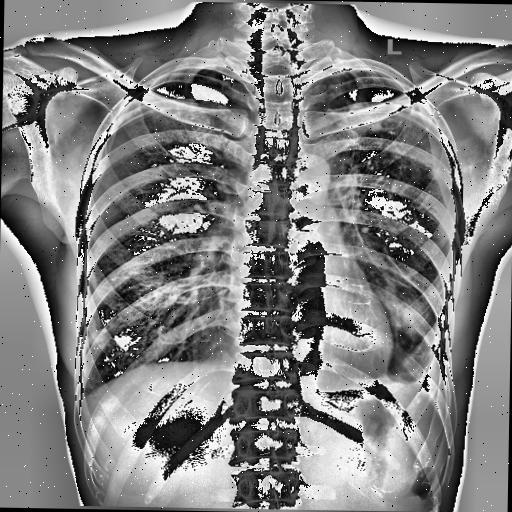10- Pleural effusion: (392, 320, 451, 412), (391, 338, 448, 398), (422, 328, 450, 390)
11- Pleural thickening: (303, 66, 367, 98), (422, 328, 450, 390)
13- Pulmonary fibrosis: (334, 97, 428, 195), (326, 82, 426, 140), (352, 222, 412, 288), (346, 96, 414, 136)
6- Infiltration: (326, 82, 426, 140)
7- Lung Opacity: (376, 272, 430, 335), (382, 288, 434, 342)
8- Nodule-Mass: (88, 329, 103, 346), (366, 120, 384, 133), (427, 167, 442, 182), (426, 168, 440, 181), (428, 167, 443, 179)
